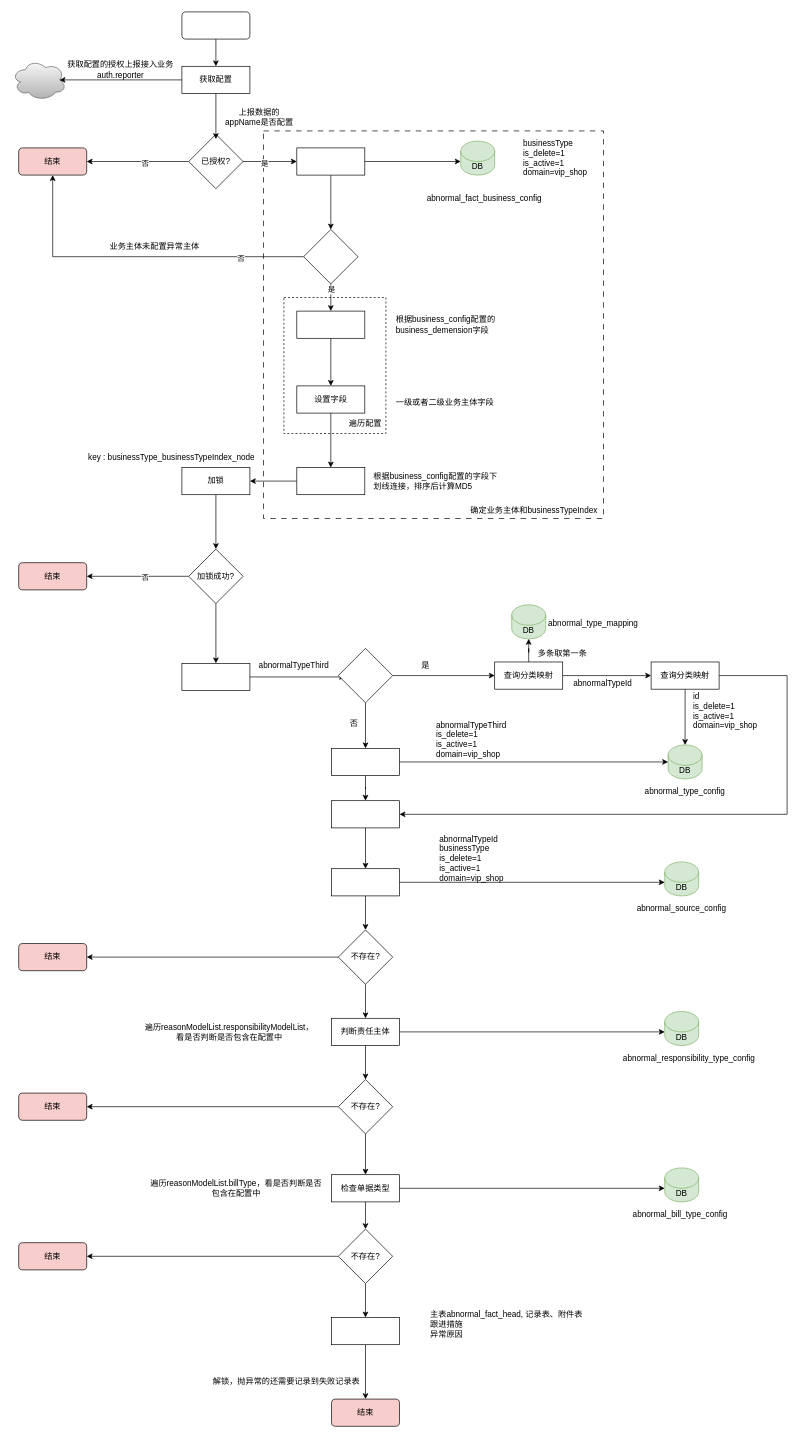
The diagram is 804 pixels wide and 1438 high, and some of its shapes have lost their labels. Each missing label, with the box of its shape:
AppConf: (11, 59, 66, 100)
report(): (181, 11, 250, 39)
反射获取字段值: (296, 310, 365, 338)
字段填充: (331, 800, 400, 828)
异常三级分类为空?: (338, 648, 393, 703)
异常主体存在?: (303, 229, 358, 284)
数据保存: (331, 1317, 400, 1345)
查询分类: (331, 748, 400, 776)
检查业务主体: (331, 868, 400, 896)
生成key: (296, 467, 365, 495)
获取数据库配置: (296, 147, 365, 175)
补全字段: (181, 663, 250, 691)
